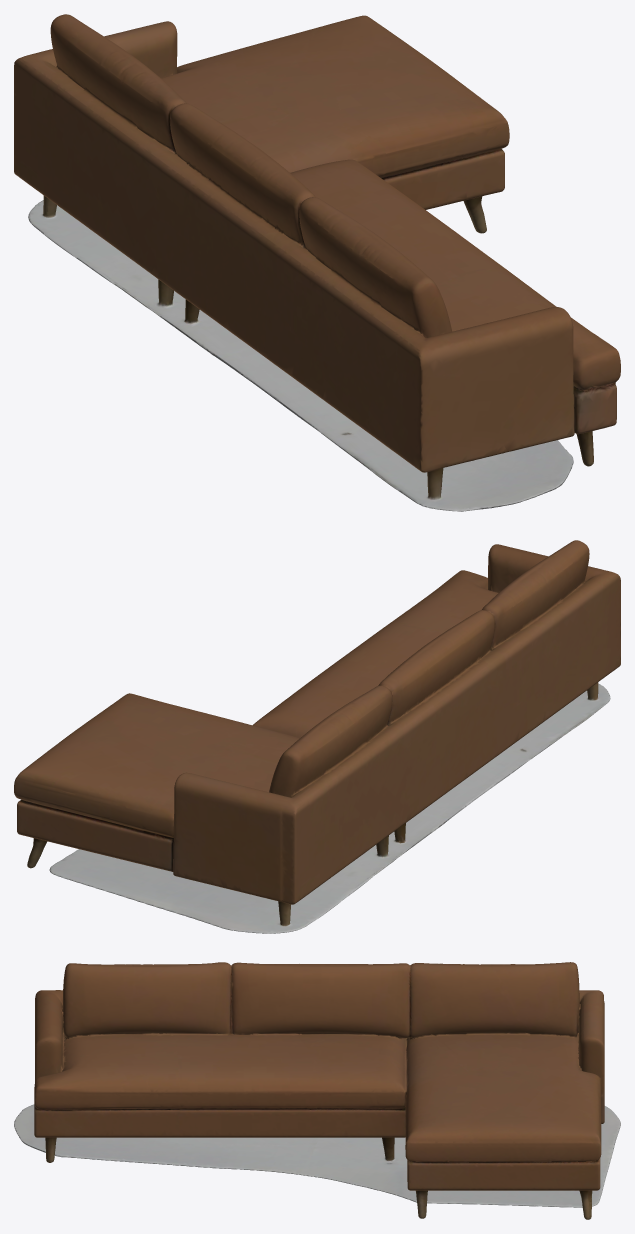
The model's file is c07-stylized.glb.
3 views of the same model, one above another, from view 1: azimuth 30°, elevation 25°; view 2: azimuth 150°, elevation 25°; view 3: azimuth 270°, elevation 25° (orthographic). The views are drawn at different scales.
Visible parts, largest first — view 1: tripo_node_0ad2add3-563e-4680-bd89-cad7736973c5; view 2: tripo_node_0ad2add3-563e-4680-bd89-cad7736973c5; view 3: tripo_node_0ad2add3-563e-4680-bd89-cad7736973c5.
Part boxes in pixels (left/top/right/bottom): tripo_node_0ad2add3-563e-4680-bd89-cad7736973c5: left=14, top=14, right=620, bottom=511; tripo_node_0ad2add3-563e-4680-bd89-cad7736973c5: left=14, top=540, right=620, bottom=933; tripo_node_0ad2add3-563e-4680-bd89-cad7736973c5: left=14, top=962, right=620, bottom=1219.
Bounding box in the file's own units: 0.471 × 0.2715 × 1.
1 material, 1 textured.
